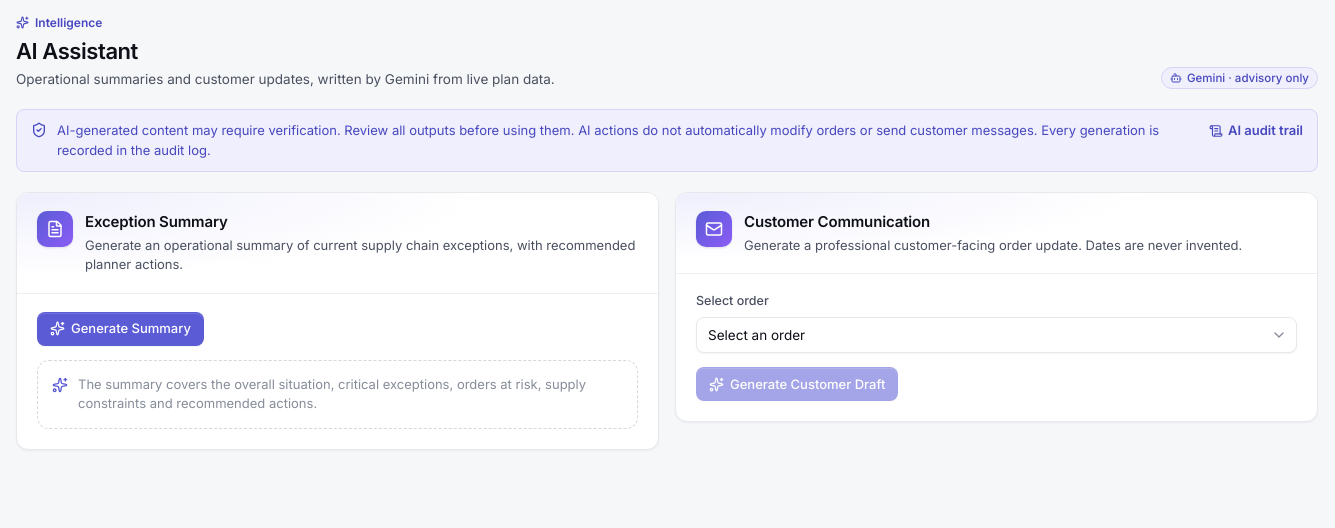
AIAssistant page › generates and displays an exception summary
Click the button "Generate Summary". click: (120, 329)
box: [37,312,204,346]
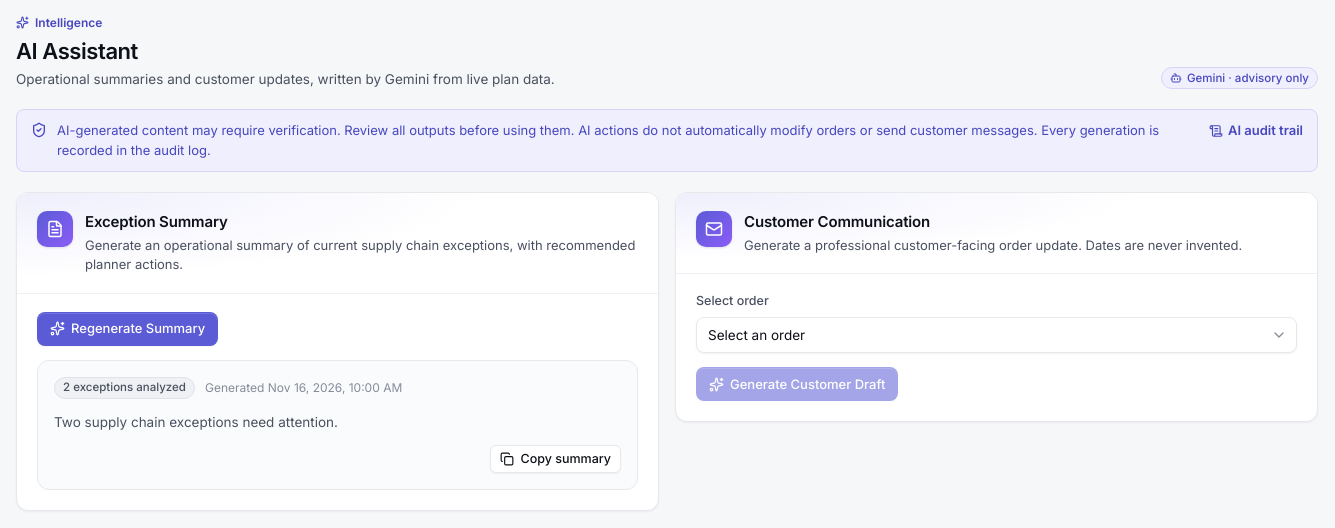
Result: the text "Two supply chain exceptions need attention." is shown at [54,414,338,430]
